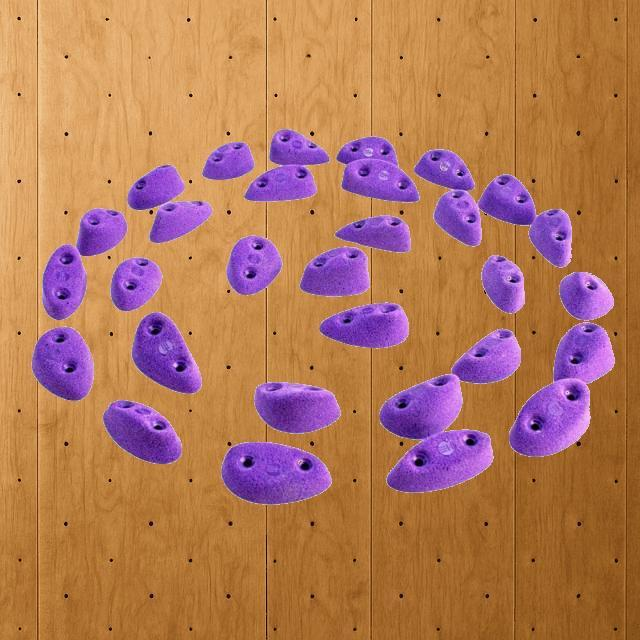Crimp: (220, 441, 332, 505), (384, 429, 492, 493), (508, 380, 594, 458), (132, 312, 202, 393), (381, 376, 463, 438), (104, 402, 182, 464), (30, 326, 94, 400), (319, 302, 411, 350), (255, 382, 339, 432), (553, 323, 615, 383), (454, 329, 522, 383), (41, 242, 88, 318), (226, 236, 282, 296), (302, 248, 371, 296), (340, 160, 418, 202), (479, 174, 537, 226), (149, 201, 213, 245), (110, 258, 162, 310), (434, 190, 482, 246), (336, 217, 410, 253), (560, 271, 614, 319), (244, 166, 316, 202), (128, 164, 184, 210), (414, 148, 474, 190), (482, 255, 526, 312), (529, 210, 573, 266), (269, 128, 329, 166), (77, 209, 126, 255), (202, 142, 254, 182), (338, 136, 398, 166)
